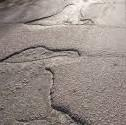crack: (16, 67, 86, 125)
pothole: (2, 42, 80, 63)
